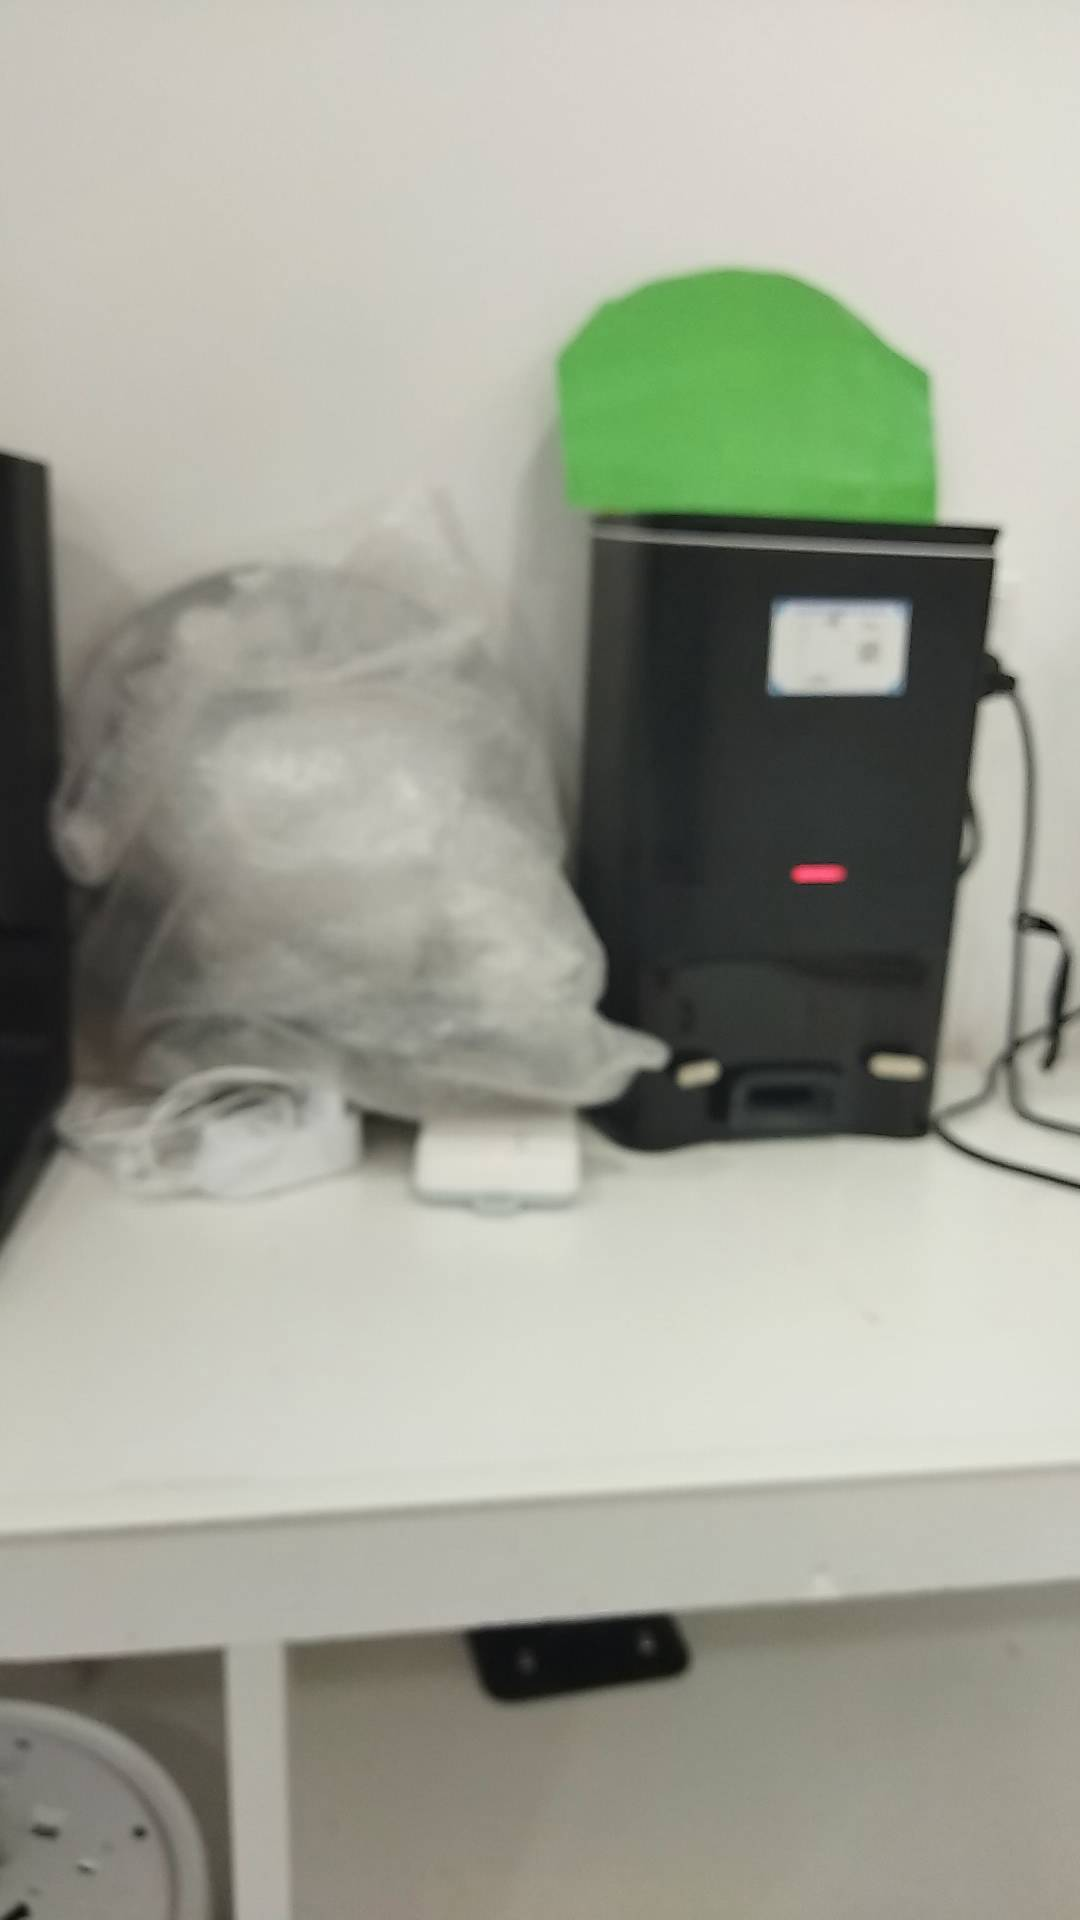dust collecting barrel: (579, 508, 1004, 1158)
